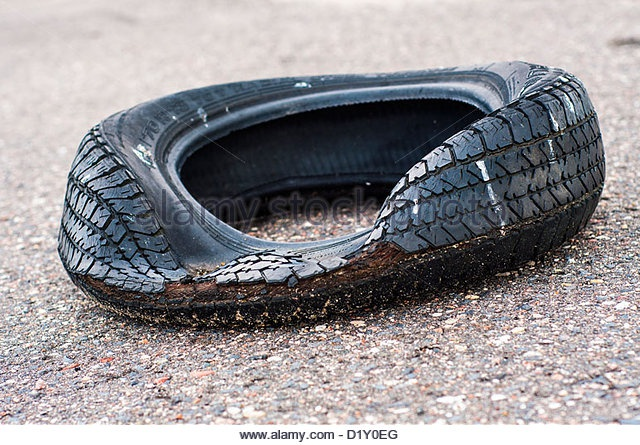tire: (53, 57, 601, 338)
